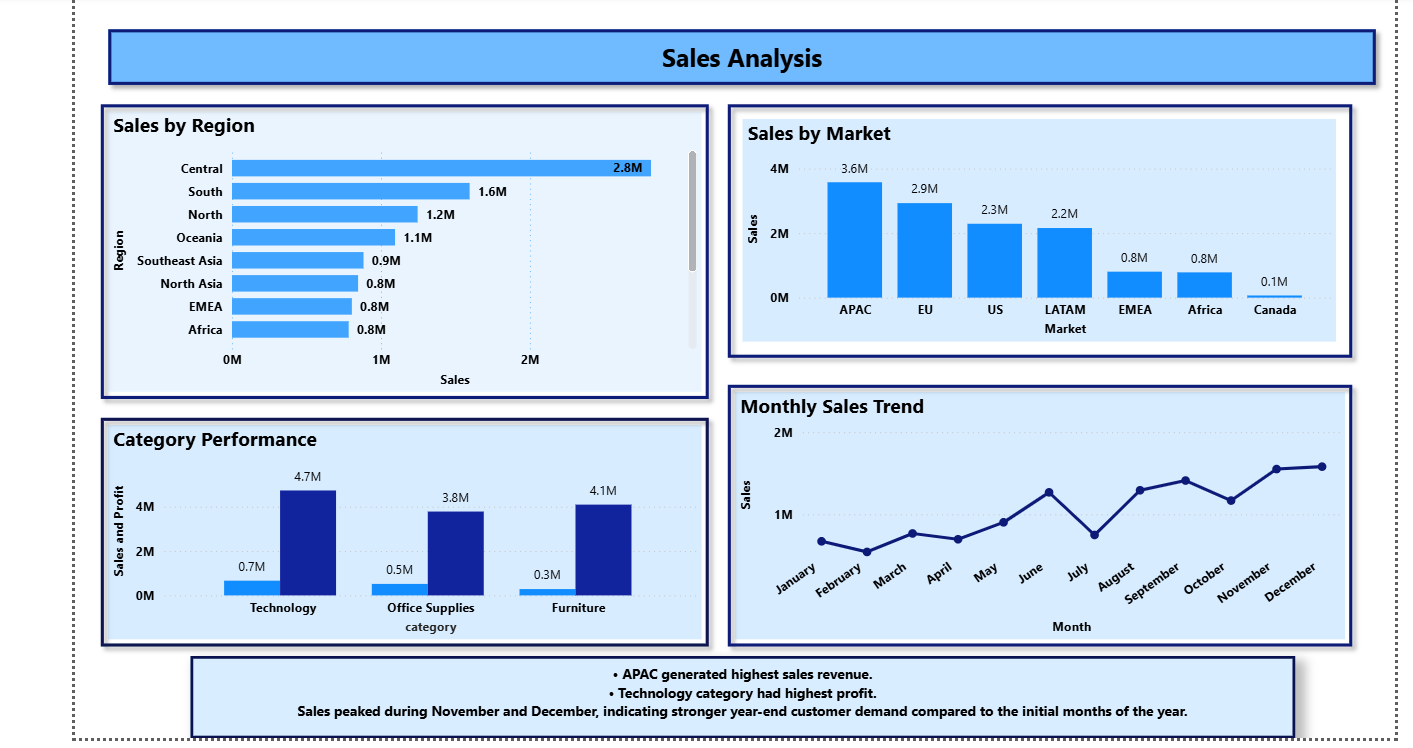

Layout of this report page (visuals, bound fields, positions):
{"tool":"powerbi","page":{"name":"Sales Analysis","canvas":[1280,720],"ordinal":1},"visuals":[{"type":"shape","box":[624,368,624,272],"z":0},{"type":"shape","box":[16,96,608,304],"z":1000},{"type":"shape","box":[624,96,624,264],"z":2000},{"type":"shape","box":[16,400,608,240],"z":3000},{"type":"shape","box":[24,24,1248,72],"z":4000},{"type":"clusteredColumnChart","title":"Category Performance ","fields":{"Category":["superstore.category"],"Y":["Sum(superstore.profit)","Sum(superstore.sales)"]},"box":[32,416,576,208],"z":5000},{"type":"clusteredColumnChart","title":"Sales by Market","fields":{"Category":["superstore.market"],"Y":["Sum(superstore.sales)"]},"box":[648,120,576,216],"z":6000},{"type":"lineChart","title":"Monthly Sales Trend ","fields":{"Category":["superstore.order_date.Variation.Date Hierarchy.Month"],"Y":["Sum(superstore.sales)"]},"box":[640,384,592,240],"z":7000},{"type":"clusteredBarChart","title":"Sales by Region","fields":{"Category":["superstore.region"],"Y":["Sum(superstore.sales)"]},"box":[32,112,576,272],"z":8000},{"type":"textbox","box":[112,640,1072,80],"z":9000}]}

Visuals, with their boxes in screenshot pixels (x1, y1, x2, y2):
shape: region(723, 377, 1361, 655)
shape: region(101, 98, 723, 409)
shape: region(723, 98, 1361, 368)
shape: region(101, 409, 723, 655)
shape: region(109, 25, 1386, 98)
"Category Performance " clusteredColumnChart: region(117, 426, 707, 638)
"Sales by Market" clusteredColumnChart: region(748, 123, 1337, 344)
"Monthly Sales Trend " lineChart: region(739, 393, 1345, 638)
"Sales by Region" clusteredBarChart: region(117, 115, 707, 393)
textbox: region(199, 655, 1296, 737)
